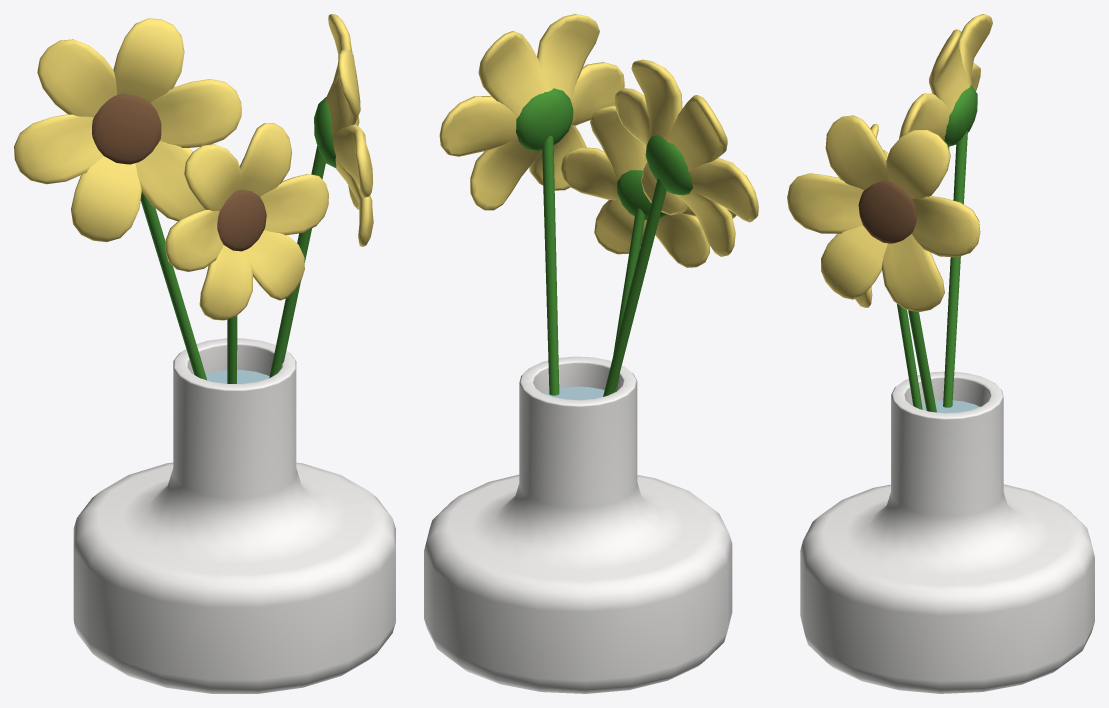
File: Flower_6.glb
3 renders of one model, left to right at view 1: azimuth 30°, elevation 25°; view 2: azimuth 150°, elevation 25°; view 3: azimuth 270°, elevation 25°, orthographic. The views are drawn at different scales.
Visible parts, largest first — view 1: Vase_with_Flowers_3; view 2: Vase_with_Flowers_3; view 3: Vase_with_Flowers_3.
Part boxes in pixels (bbox=[...]): Vase_with_Flowers_3: bbox=[14, 14, 395, 693]; Vase_with_Flowers_3: bbox=[424, 14, 758, 693]; Vase_with_Flowers_3: bbox=[787, 14, 1094, 693].
Bounding box in the file's own units: 0.3697 × 0.6446 × 0.3149.
1 material, 1 textured.
